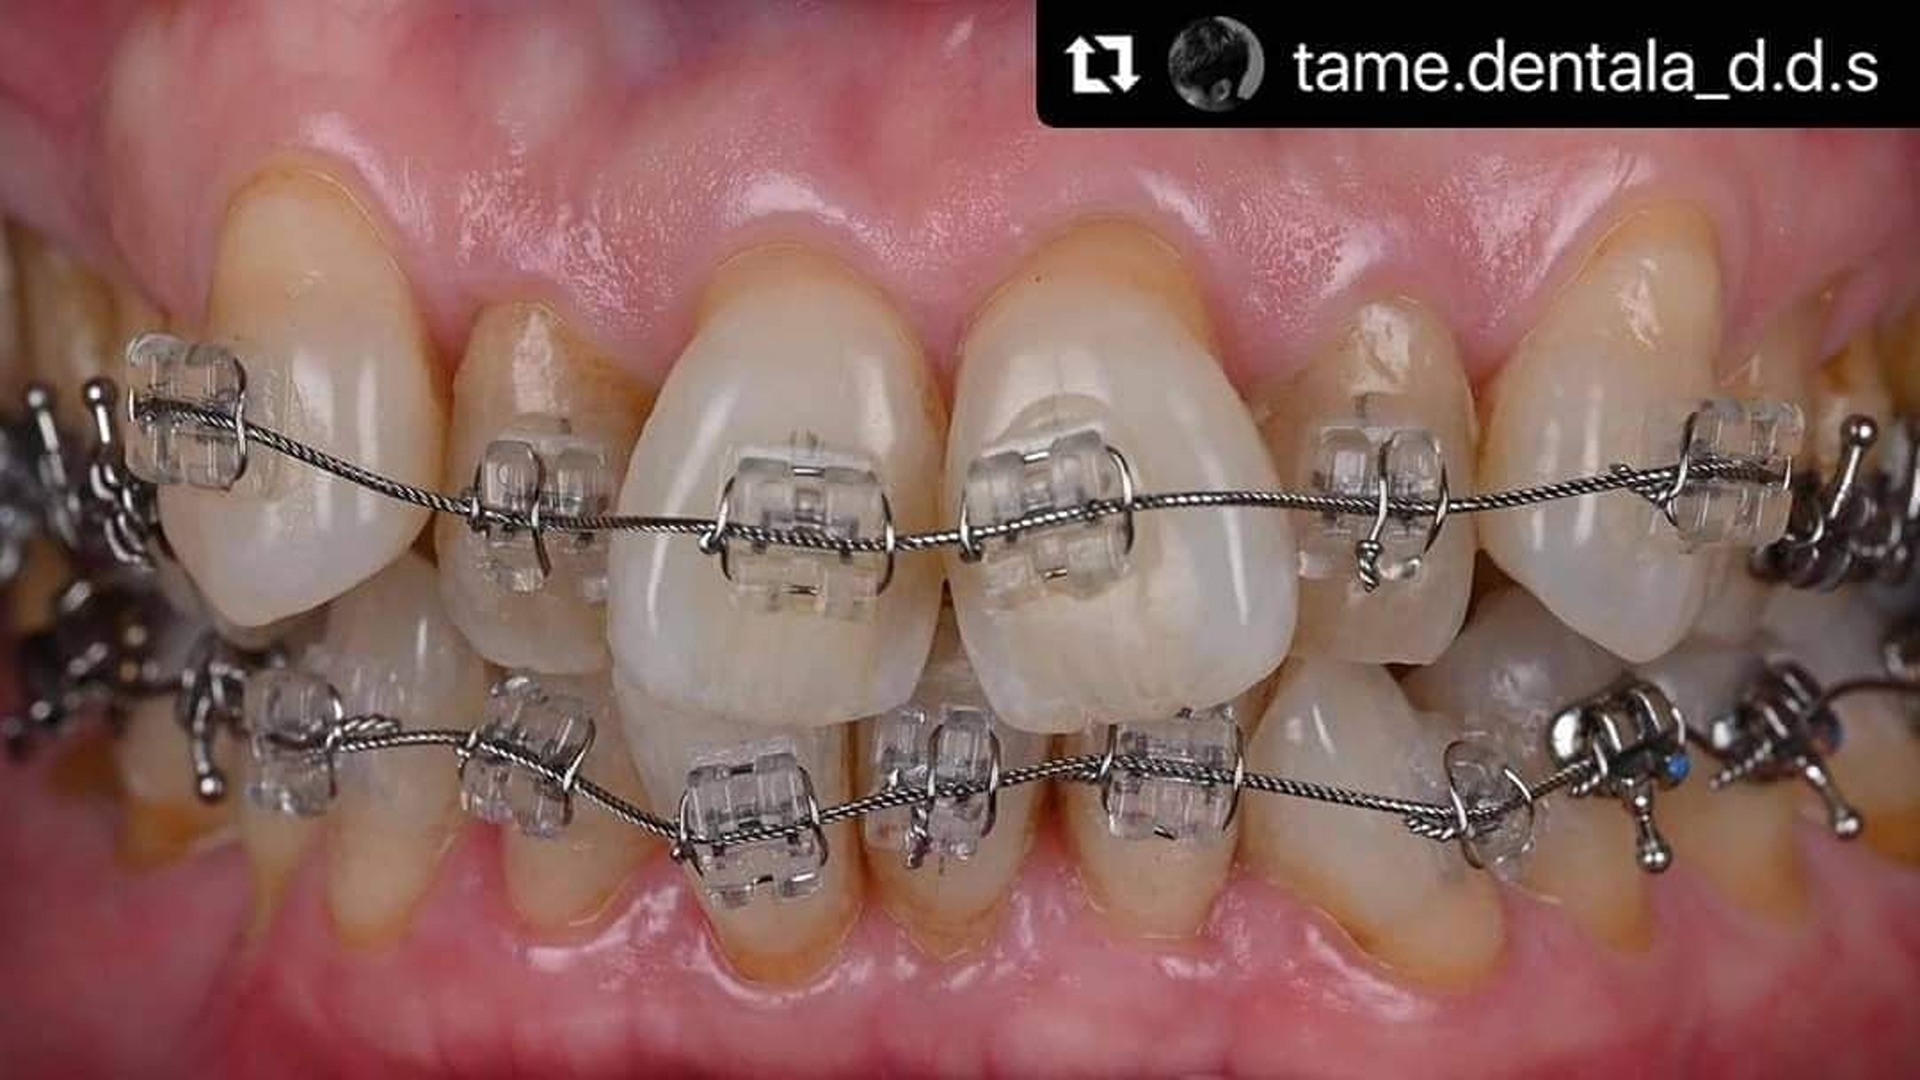tooth: (938, 216, 1300, 735), (607, 240, 948, 737), (158, 146, 454, 630), (1477, 199, 1724, 665)
